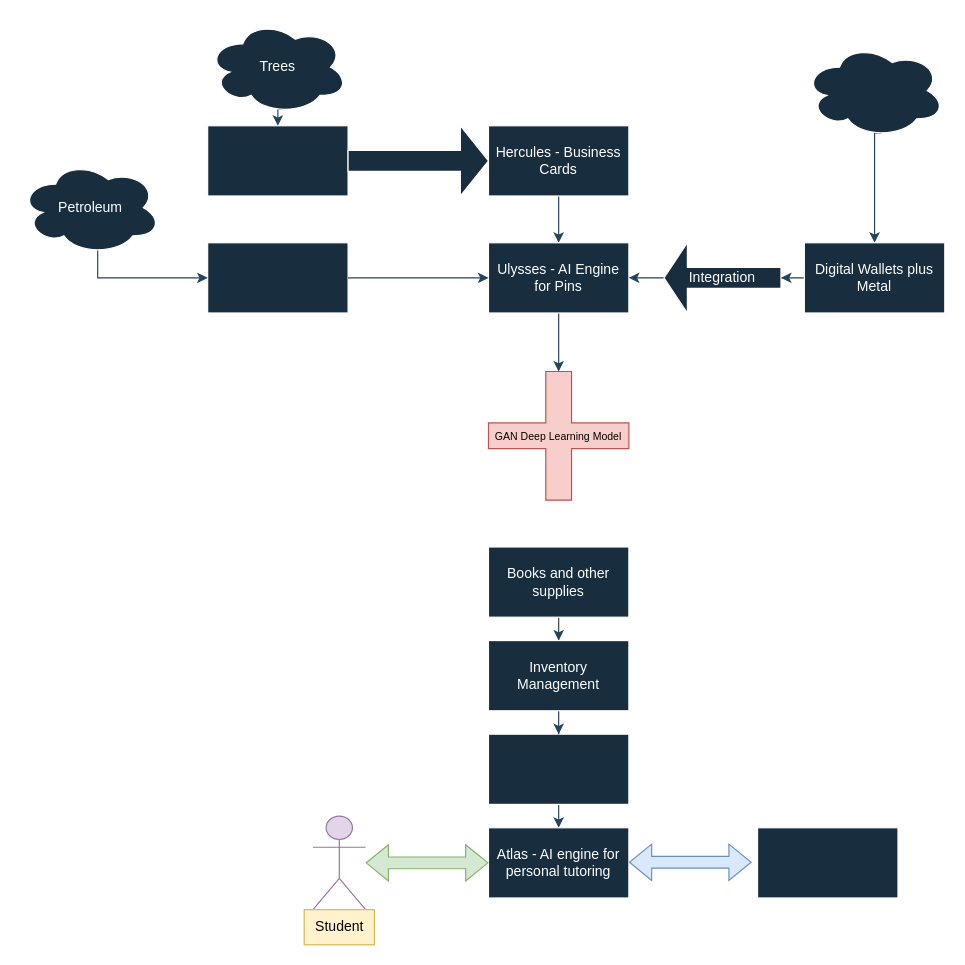
Some shapes in this 965 by 965 pixel diagram are drawn without their labels. The shapes that lost their labels are listed below. From the top down, each one's centre as x and y in pixels, then its label:
At point (874, 90): "Alloys".
At point (277, 160): "Paper / Plastic".
At point (417, 160): "CNN ML Model".
At point (277, 277): "Polyester".
At point (558, 768): "Amazon".
At point (827, 862): "NFTs".
